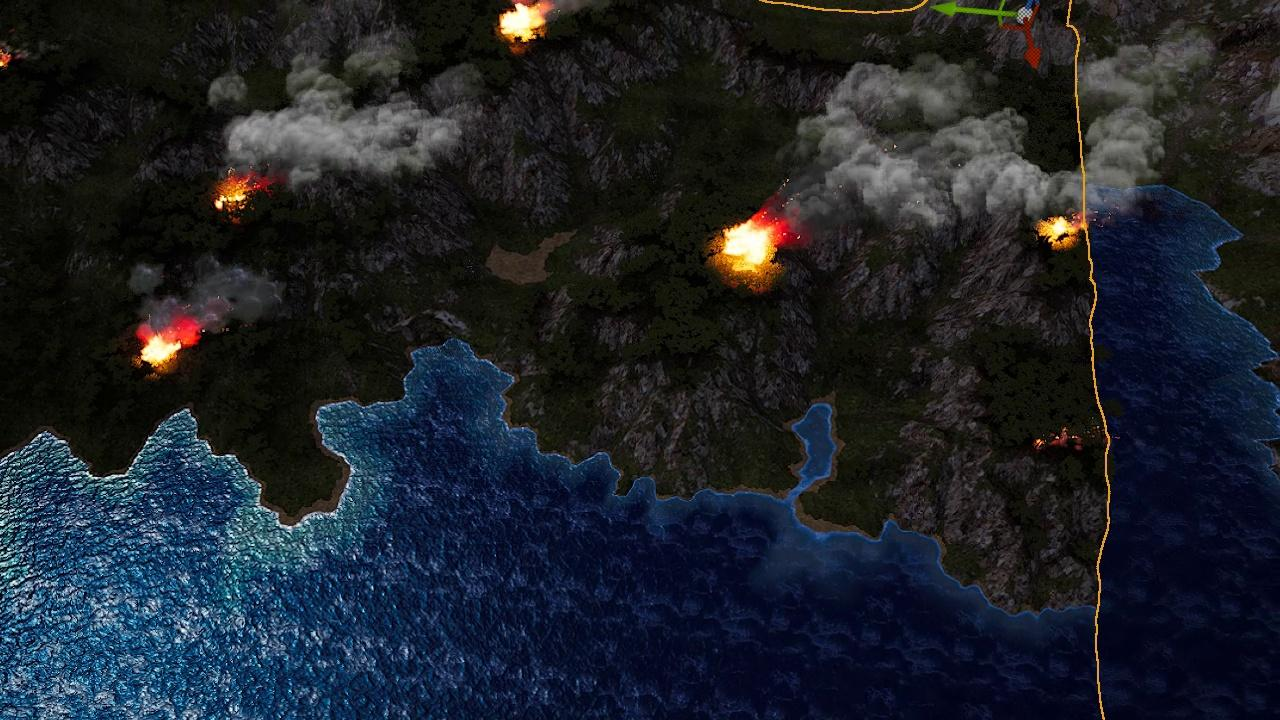fire: (714, 215, 781, 272), (139, 332, 200, 372), (211, 173, 268, 214), (497, 0, 547, 42), (1030, 427, 1083, 457), (1043, 218, 1076, 242)
smoke: (763, 27, 1218, 233), (202, 26, 480, 195), (122, 254, 281, 328)
